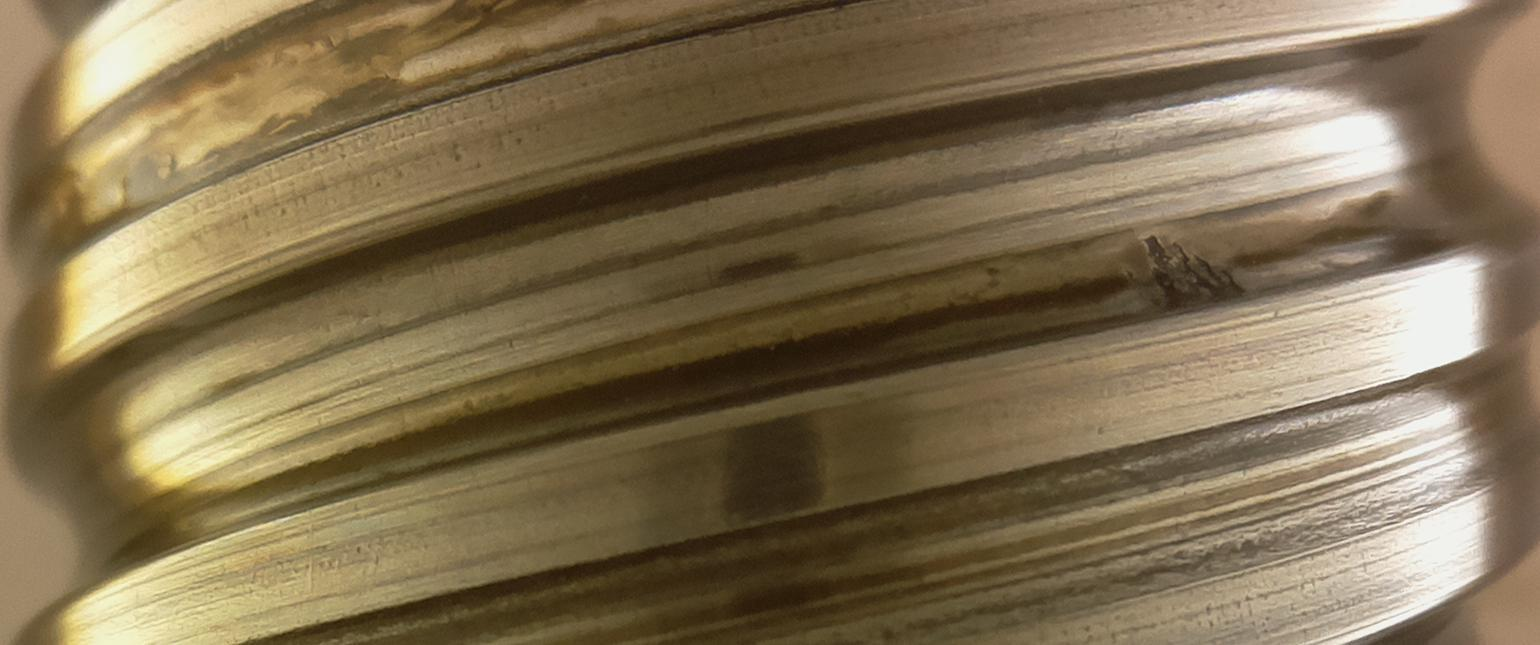pitting: (1142, 234, 1246, 313)
